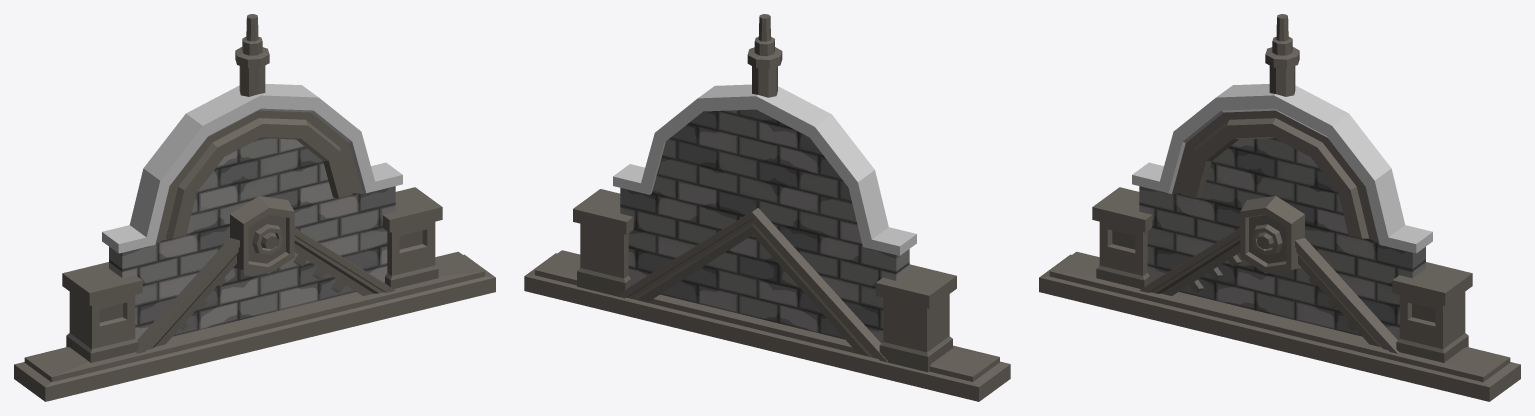
The model's file is SM_Bld_Roof_Centerpiece_01.fbx.
3 renders of one model, left to right at view 1: azimuth 30°, elevation 25°; view 2: azimuth 150°, elevation 25°; view 3: azimuth 330°, elevation 25°, orthographic.
Parts seen in each view (by area): view 1: SM_Bld_Roof_Centerpiece_01; view 2: SM_Bld_Roof_Centerpiece_01; view 3: SM_Bld_Roof_Centerpiece_01.
Boxes of the visible parts, box(x1,y1,x2,y2) form: SM_Bld_Roof_Centerpiece_01: box(14, 14, 495, 401); SM_Bld_Roof_Centerpiece_01: box(524, 14, 1010, 401); SM_Bld_Roof_Centerpiece_01: box(1039, 14, 1520, 401).
Size of the model in its own units: 756 by 509 by 95.83.
